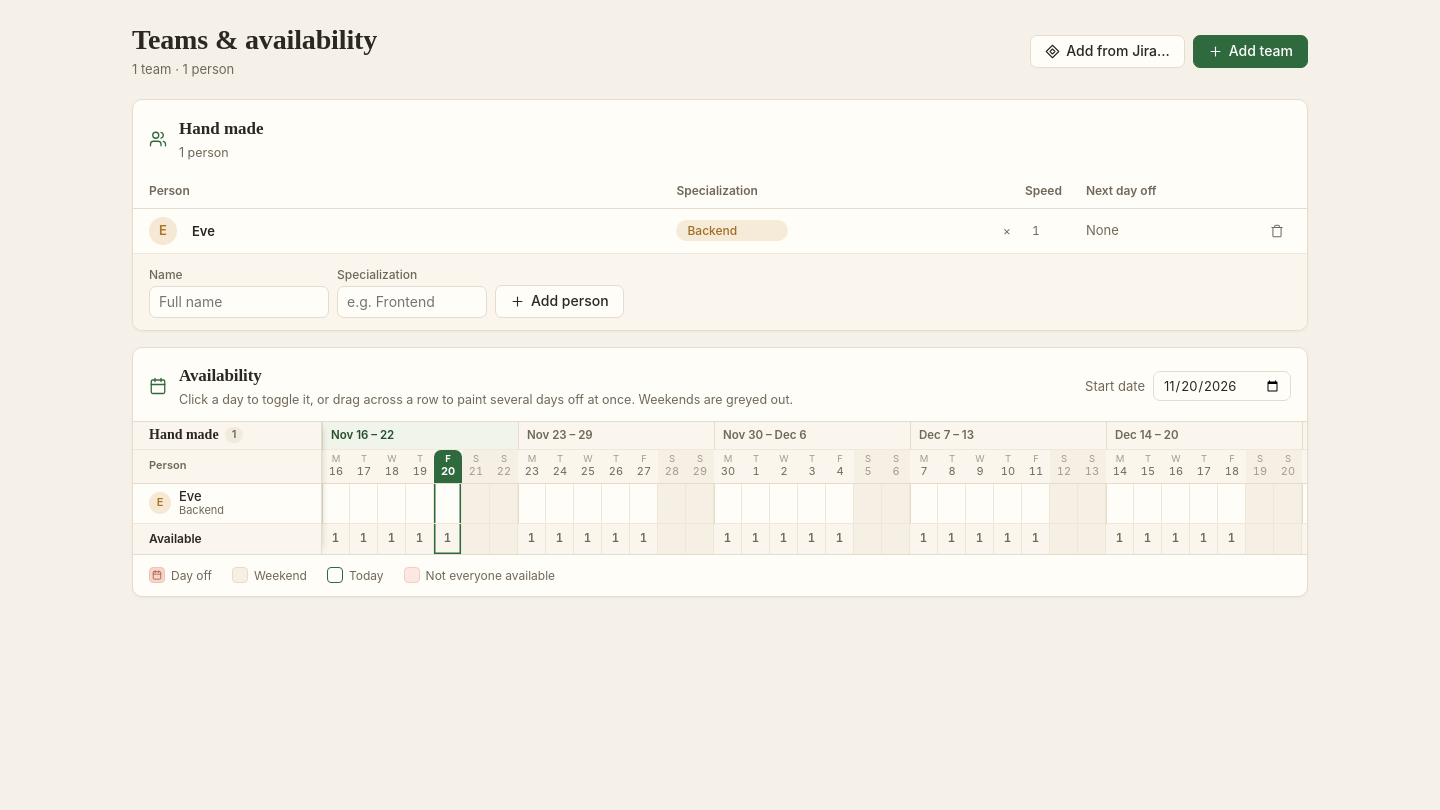
Scenario: Team page — add from Jira › lists the Teams directory and adds a team with its members
This screenshot has width=1440, height=810.
Click the button "Add from Jira…": point(1108, 52) [1030,35,1185,68]
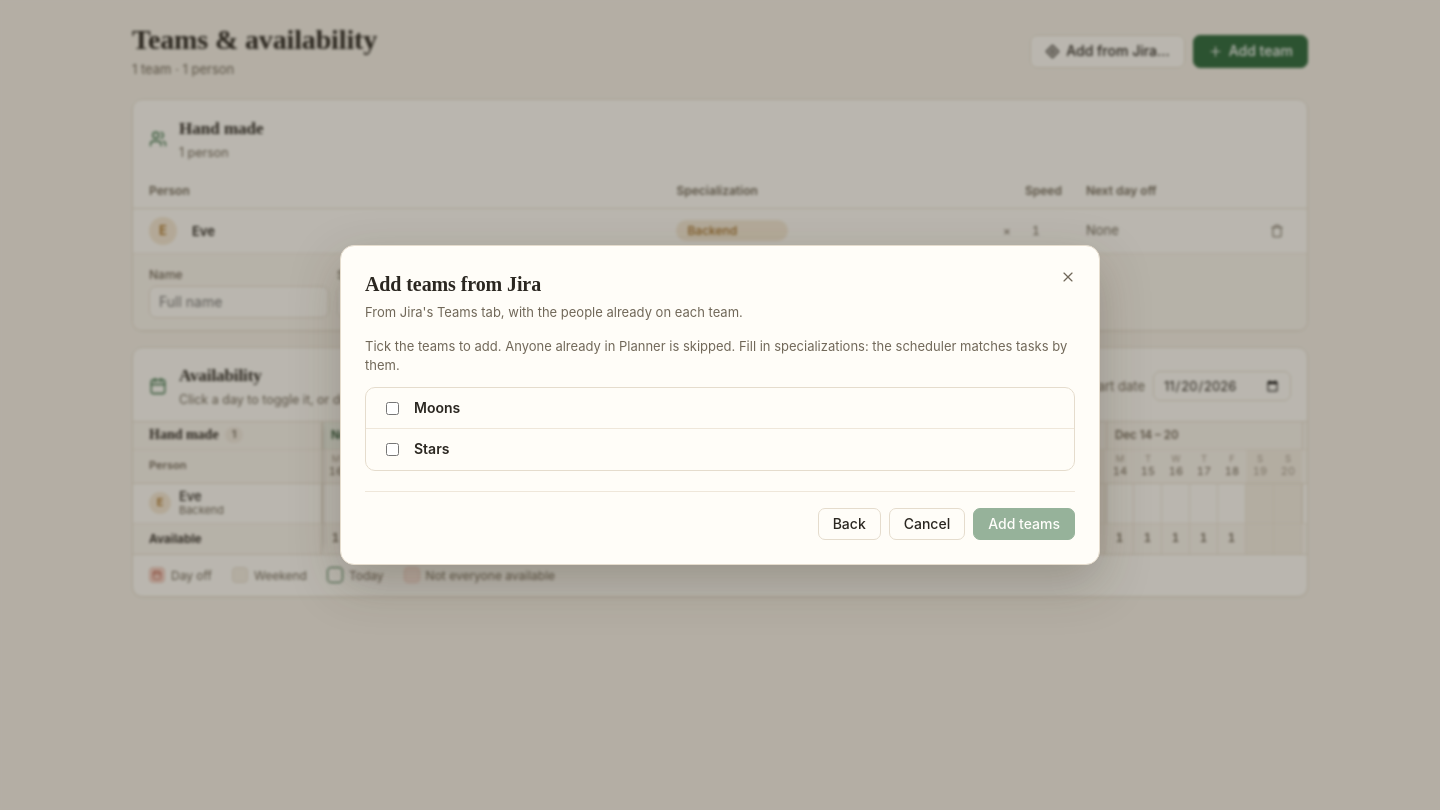
Now the text "Moons" is shown, box [414,399,460,416]
Click the checkbox labelled "Stars": point(392, 450) [386,443,399,456]
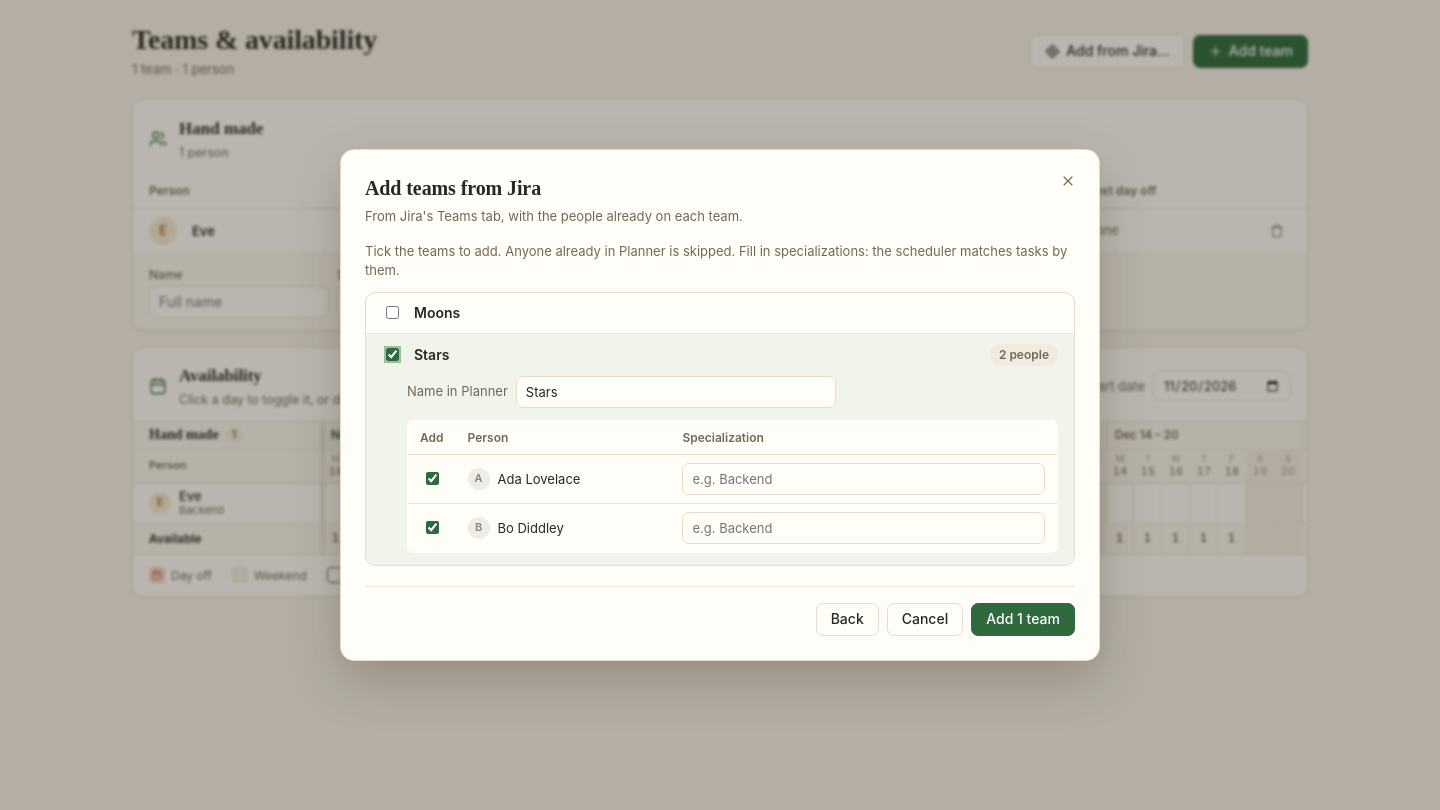
In the field named "Specialization of Bo Diddley": point(864, 528) [682,512,1045,544], type "QA"
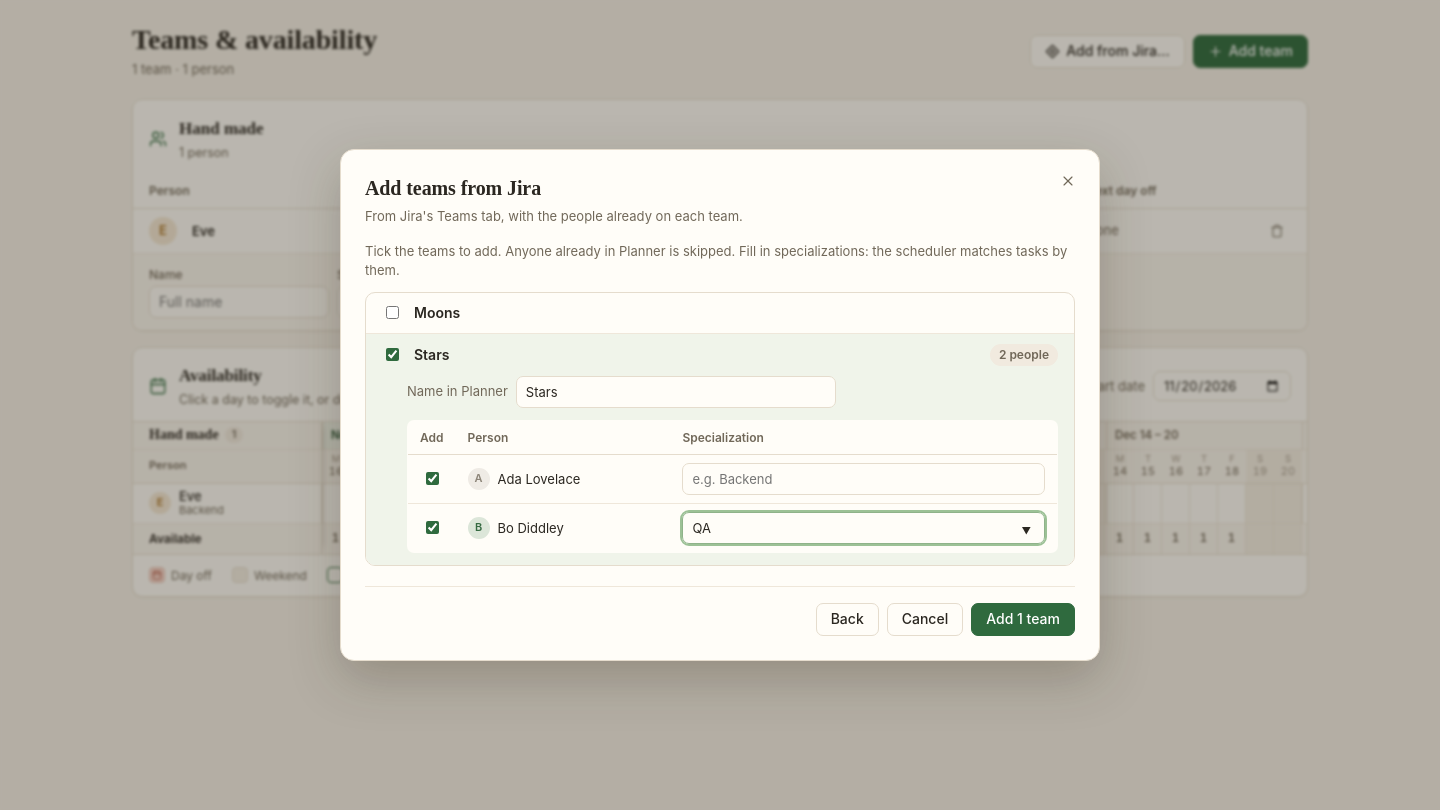
Click the button "Add 1 team": point(1023, 620) [971,603,1075,636]
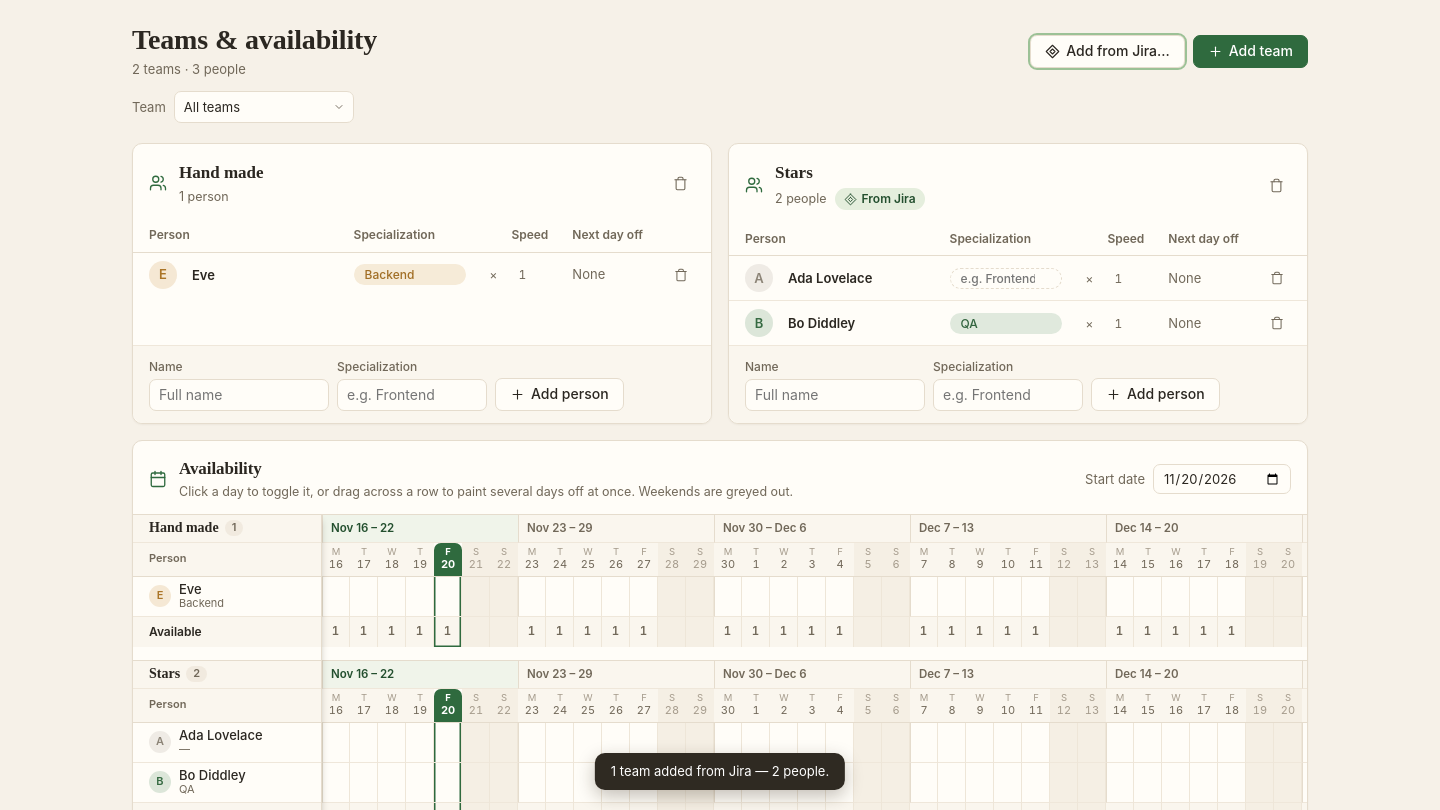
Now the text "Ada Lovelace" is shown, box [179,727,263,743]
Now the dialog is gone
Now the text "From Jira" is shown, box [834,188,925,210]
